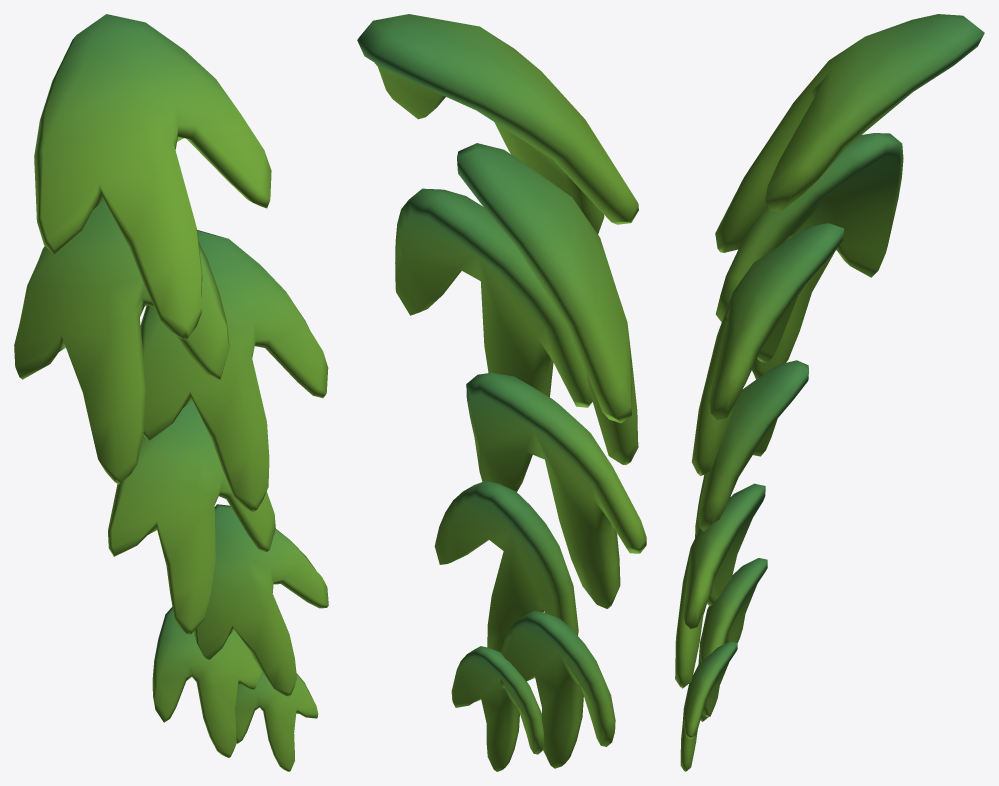
The model's file is Plants_023.fbx.
3 renders of one model, left to right at view 1: azimuth 30°, elevation 25°; view 2: azimuth 150°, elevation 25°; view 3: azimuth 270°, elevation 25°, orthographic. The views are drawn at different scales.
Parts seen in each view (by area): view 1: Plants.023; view 2: Plants.023; view 3: Plants.023.
Boxes of the visible parts, box(x1,y1,x2,y2) form: Plants.023: box(14, 14, 328, 771); Plants.023: box(357, 14, 646, 771); Plants.023: box(675, 14, 984, 771).
Bounding box in the file's own units: 290 × 765 × 296.
